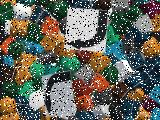Left: (41, 70, 75, 117)
Right: (64, 8, 109, 52)
